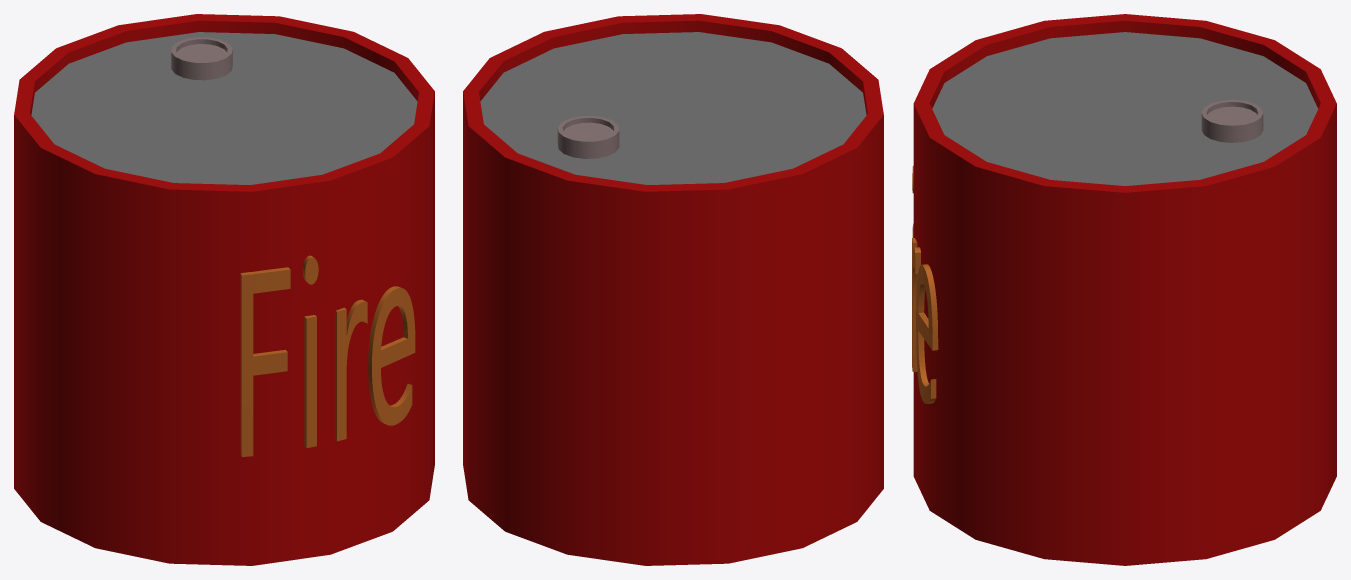
The model's file is barrel.fbx.
The picture shows the model from 3 angles, left to right: view 1: azimuth 30°, elevation 25°; view 2: azimuth 150°, elevation 25°; view 3: azimuth 270°, elevation 25°; orthographic projection.
Parts seen in each view (by area): view 1: Цилиндр, F, e, Цилиндр_1, r, i; view 2: Цилиндр, Цилиндр_1; view 3: Цилиндр, Цилиндр_1, e, r.
Part boxes in pixels (<box>): Цилиндр: <box>14,14,434,565</box>; F: <box>240,267,290,457</box>; e: <box>368,286,415,425</box>; Цилиндр_1: <box>171,37,232,80</box>; r: <box>335,299,367,441</box>; i: <box>302,255,318,448</box>; Цилиндр: <box>463,14,883,565</box>; Цилиндр_1: <box>557,115,619,158</box>; Цилиндр: <box>913,14,1336,565</box>; Цилиндр_1: <box>1201,99,1263,142</box>; e: <box>916,264,938,403</box>; r: <box>912,238,920,371</box>.
Bounding box in the file's own units: 67.87 × 67.06 × 68.12.
